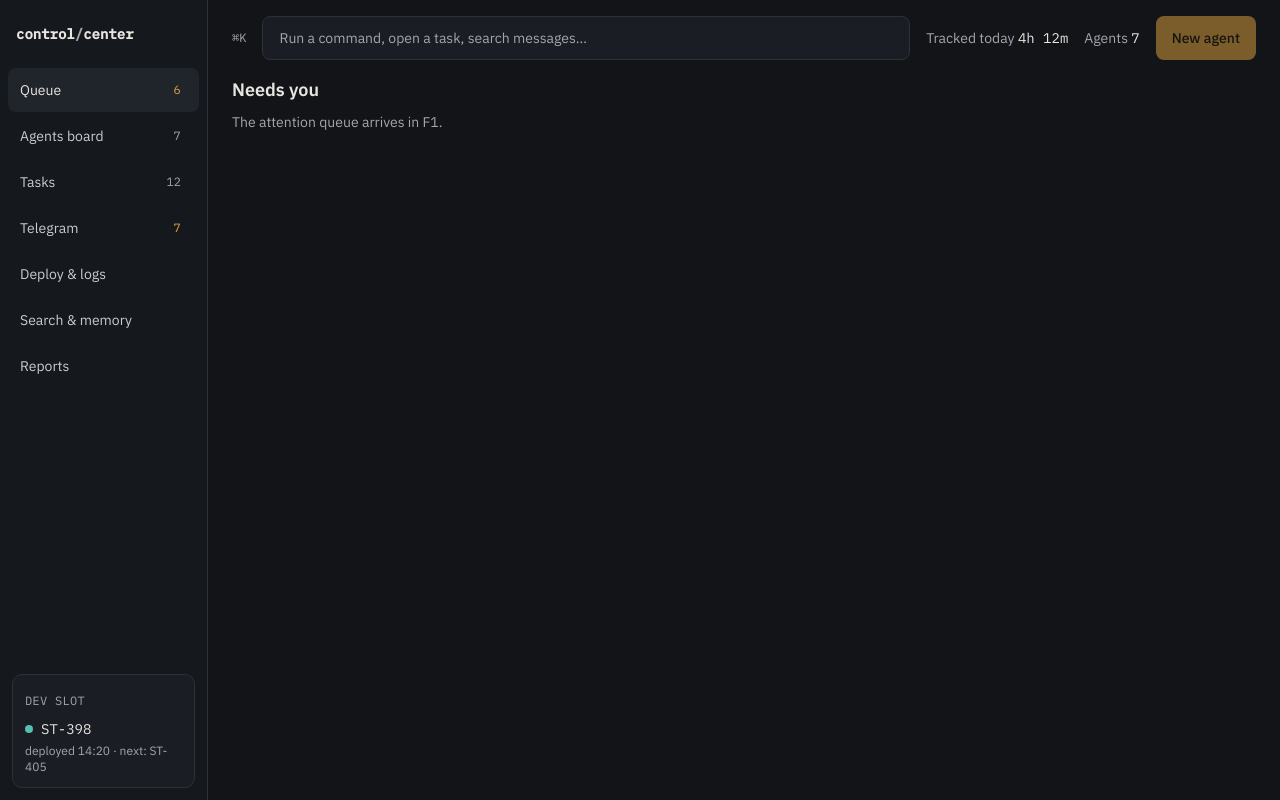
it: app shell › navigates with the keyboard and keeps the mock mode in the URL
Click the link "Tasks 12".
click(38, 182)  # box [20,173,181,191]
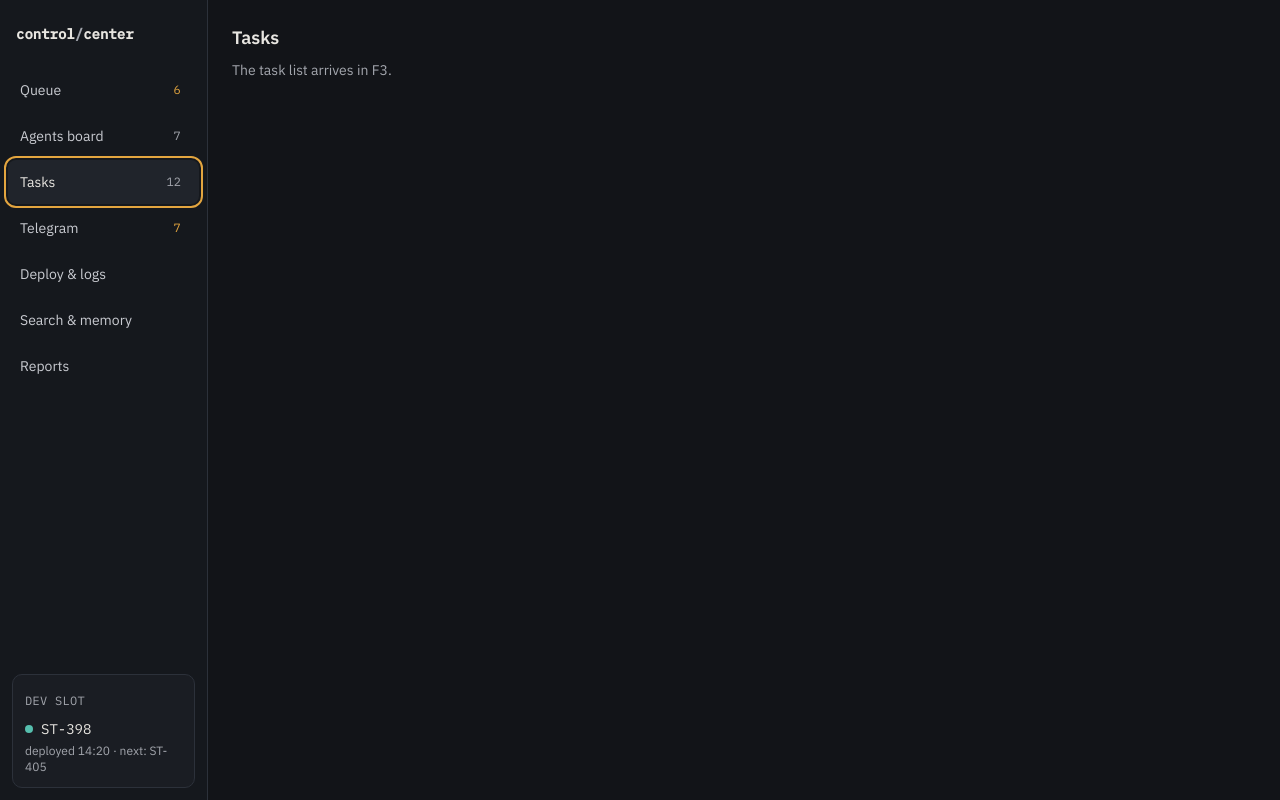
Expected: the heading "Tasks" is shown, [232,26,279,49]
